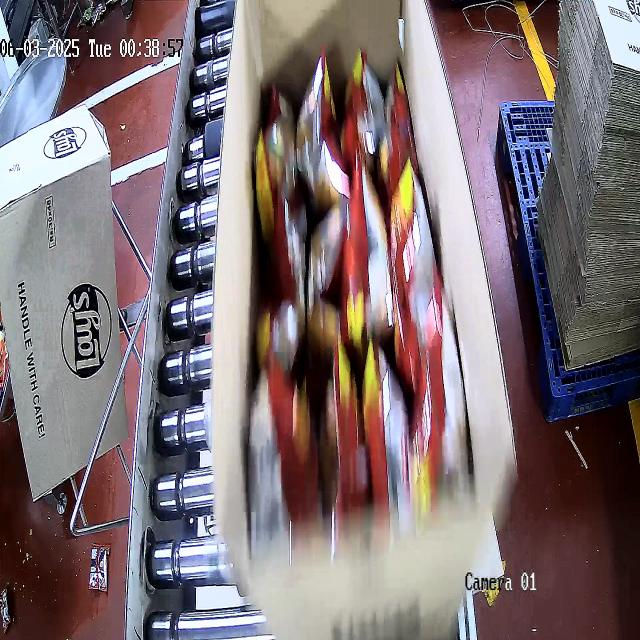MASALA: (251, 46, 448, 567)
